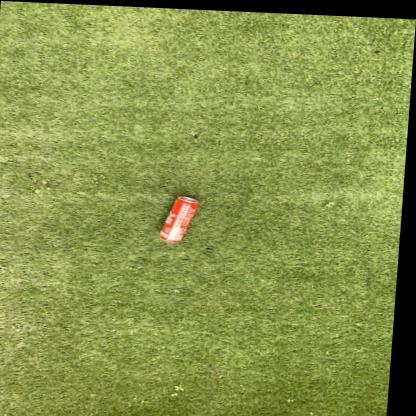trash: (160, 197, 198, 242)
